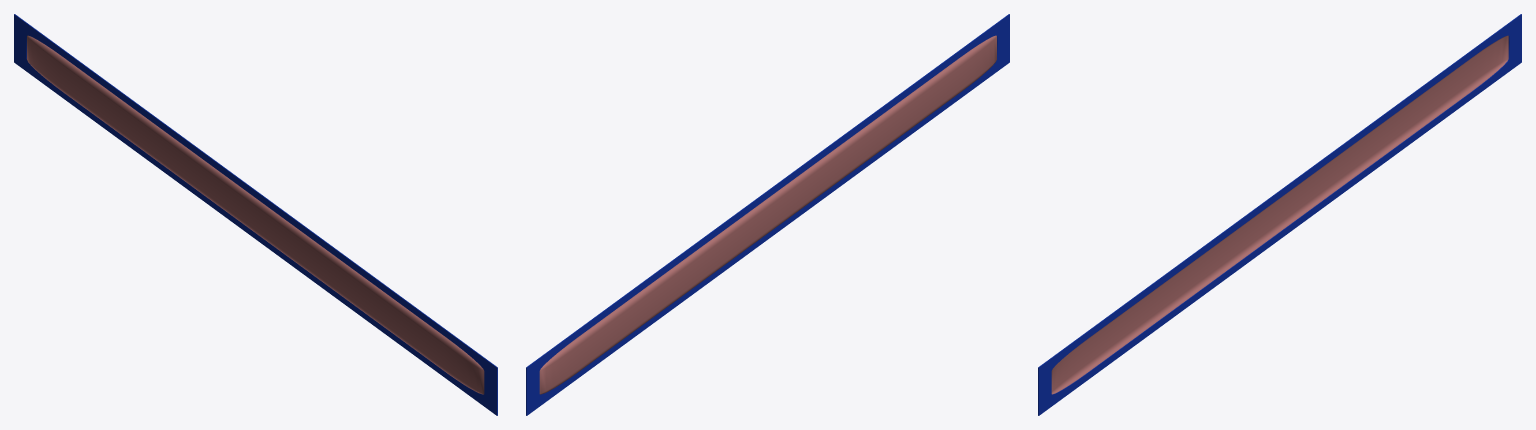
Rendered from 5X90 Very Long Window.FBX.
3 views of the same model, side by side, from view 1: azimuth 30°, elevation 25°; view 2: azimuth 150°, elevation 25°; view 3: azimuth 330°, elevation 25° (orthographic).
Parts seen in each view (by area): view 1: Box064; view 2: Box064; view 3: Box064.
Boxes of the visible parts, x1,y1,x2,y2 form: Box064: (14,14,497,415); Box064: (526,14,1009,415); Box064: (1038,14,1521,415).
Bounding box in the file's own units: 0.4694 × 5 × 90.64.
